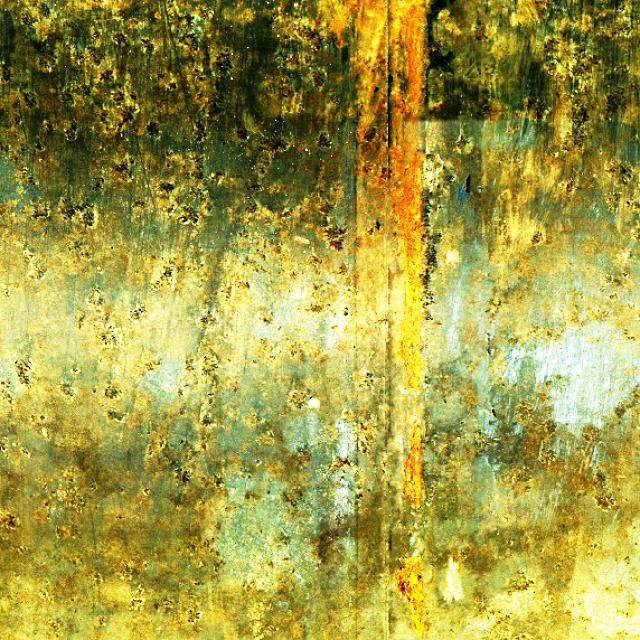Corrosion: (395, 160, 422, 390), (398, 3, 424, 113), (393, 558, 425, 636), (402, 419, 422, 507), (332, 14, 348, 34)
